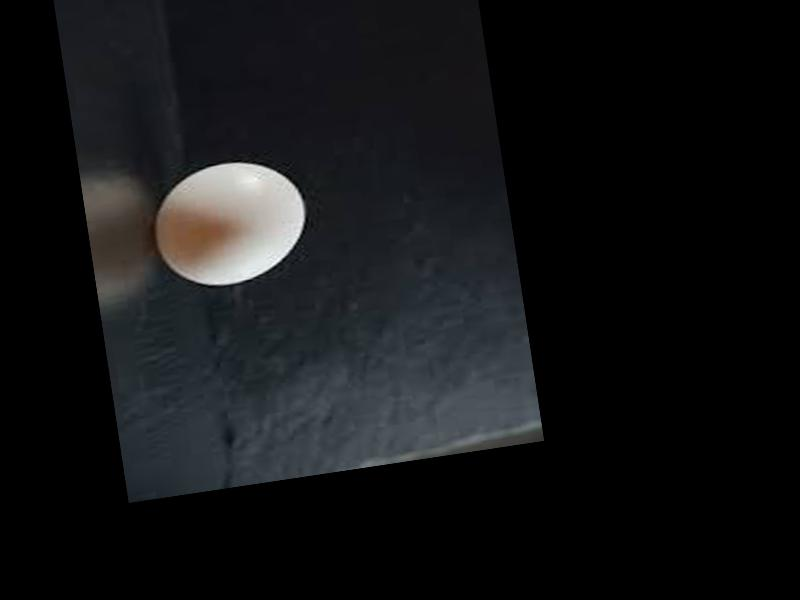Eggs: (147, 153, 317, 294)
